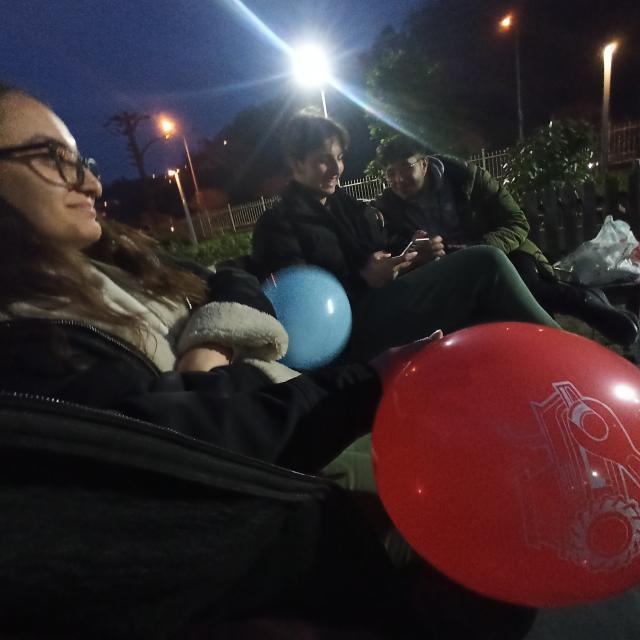balloon: (371, 322, 640, 608), (258, 270, 356, 370)
